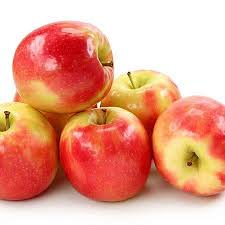apple: (14, 23, 113, 111), (62, 109, 149, 202), (148, 94, 225, 197), (1, 105, 55, 202), (109, 69, 182, 131)
